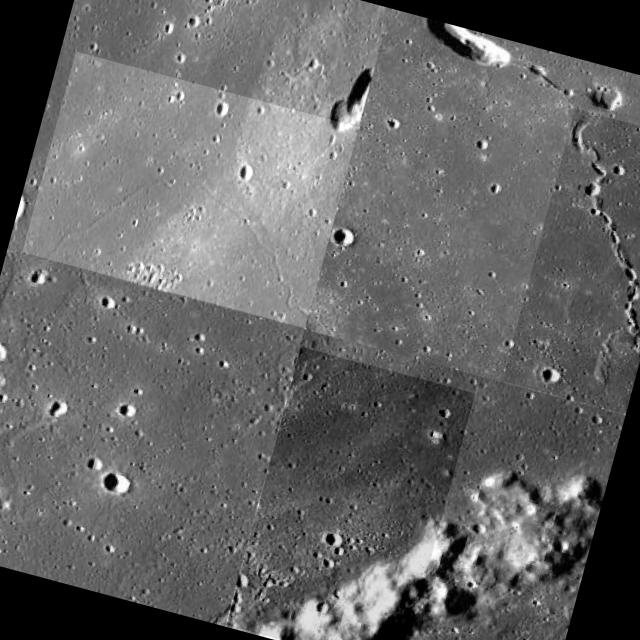crater: (23, 51, 360, 327), (227, 346, 476, 640), (108, 298, 305, 624), (503, 108, 640, 413)
